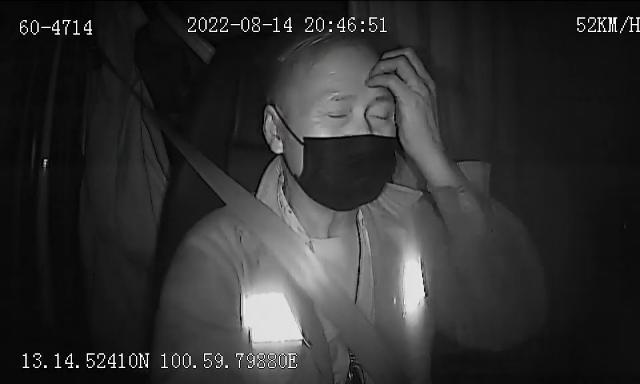Seatbelt: (174, 142, 380, 366)
